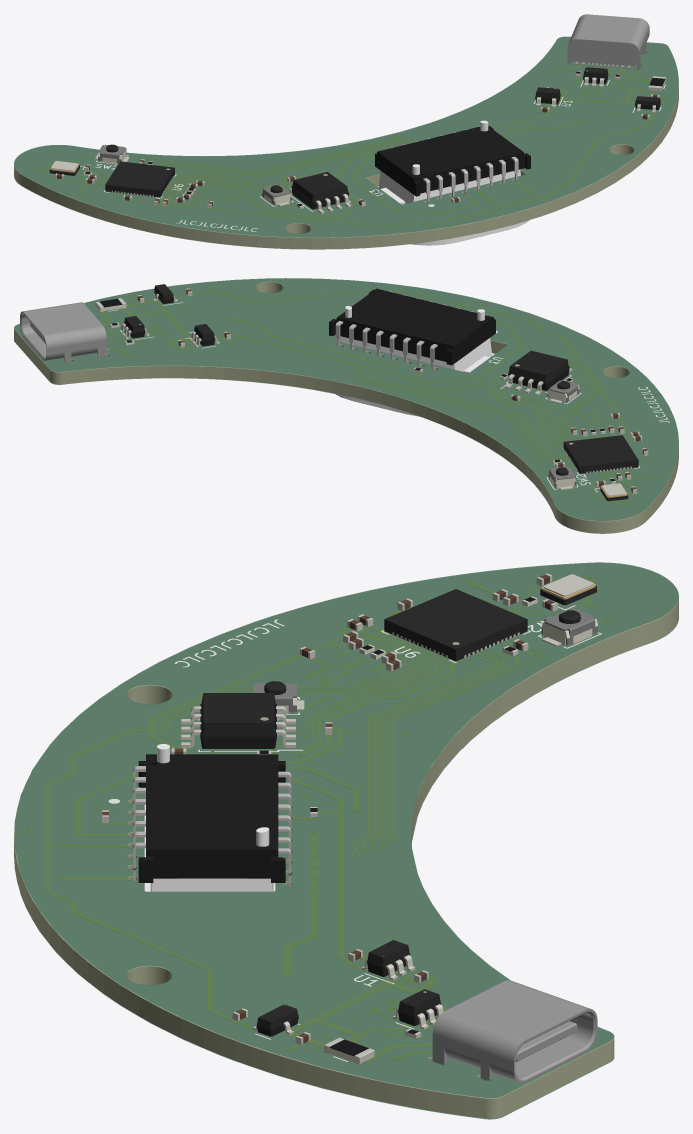
File: demo-board.glb
The picture shows the model from 3 angles, top to bottom: view 1: azimuth 30°, elevation 25°; view 2: azimuth 150°, elevation 25°; view 3: azimuth 270°, elevation 25°; orthographic projection. The views are drawn at different scales.
Parts seen in each view (by area): view 1: =>[0:1:1:35], =>[0:1:1:37], =>0:1:1:19, =>[0:1:1:9], =>[0:1:1:31], Lens:1, =>[0:1:1:28], =>[0:1:1:26], =>[0:1:1:3] (×2), =>[0:1:1:36], =>[0:1:1:33], =>[0:1:1:30] (+2 smaller); view 2: =>[0:1:1:35], =>[0:1:1:37], =>0:1:1:19, =>[0:1:1:31], =>[0:1:1:9], =>[0:1:1:28], =>[0:1:1:26], Lens:1, =>[0:1:1:3] (×2), =>[0:1:1:36], =>[0:1:1:33], =>[0:1:1:30] (+2 smaller); view 3: =>[0:1:1:35], =>[0:1:1:37], =>0:1:1:19, =>[0:1:1:31], =>[0:1:1:9], =>[0:1:1:28], =>[0:1:1:26], =>[0:1:1:3] (×2), Lens:1, =>[0:1:1:13], =>[0:1:1:30], =>[0:1:1:33] (+4 smaller).
Part boxes in pixels (x1,y1,x2,y2): =>[0:1:1:35]: (14,36,678,237); =>[0:1:1:37]: (14,37,678,249); =>0:1:1:19: (375,126,530,196); =>[0:1:1:9]: (567,14,649,69); =>[0:1:1:31]: (39,65,668,227); Lens:1: (377,120,529,245); =>[0:1:1:28]: (105,161,174,197); =>[0:1:1:26]: (289,172,351,213); =>[0:1:1:3] (×2): (95,144,291,206); =>[0:1:1:36]: (15,99,678,249); =>[0:1:1:33]: (80,80,665,231); =>[0:1:1:30]: (583,67,608,87); =>[0:1:1:35]: (14,278,678,520); =>[0:1:1:37]: (14,279,678,533); =>0:1:1:19: (329,288,495,365); =>[0:1:1:31]: (97,290,661,504); =>[0:1:1:9]: (20,302,108,362); =>[0:1:1:28]: (563,435,638,473); =>[0:1:1:26]: (505,350,572,395); Lens:1: (336,306,494,416); =>[0:1:1:3] (×2): (547,380,579,489); =>[0:1:1:36]: (14,341,675,533); =>[0:1:1:33]: (108,294,669,492); =>[0:1:1:30]: (119,316,149,339); =>[0:1:1:35]: (14,562,678,1098); =>[0:1:1:37]: (14,563,678,1118); =>0:1:1:19: (138,754,285,882); =>[0:1:1:31]: (23,577,610,1062); =>[0:1:1:9]: (432,980,597,1083); =>[0:1:1:28]: (384,589,527,661); =>[0:1:1:26]: (181,693,295,748); =>[0:1:1:3] (×2): (253,608,597,713); Lens:1: (144,744,275,891); =>[0:1:1:13]: (362,940,415,980); =>[0:1:1:30]: (393,989,443,1029); =>[0:1:1:33]: (108,605,601,1061).
Bounding box in the file's own units: 0.0872 × 0.00846 × 0.0457.
